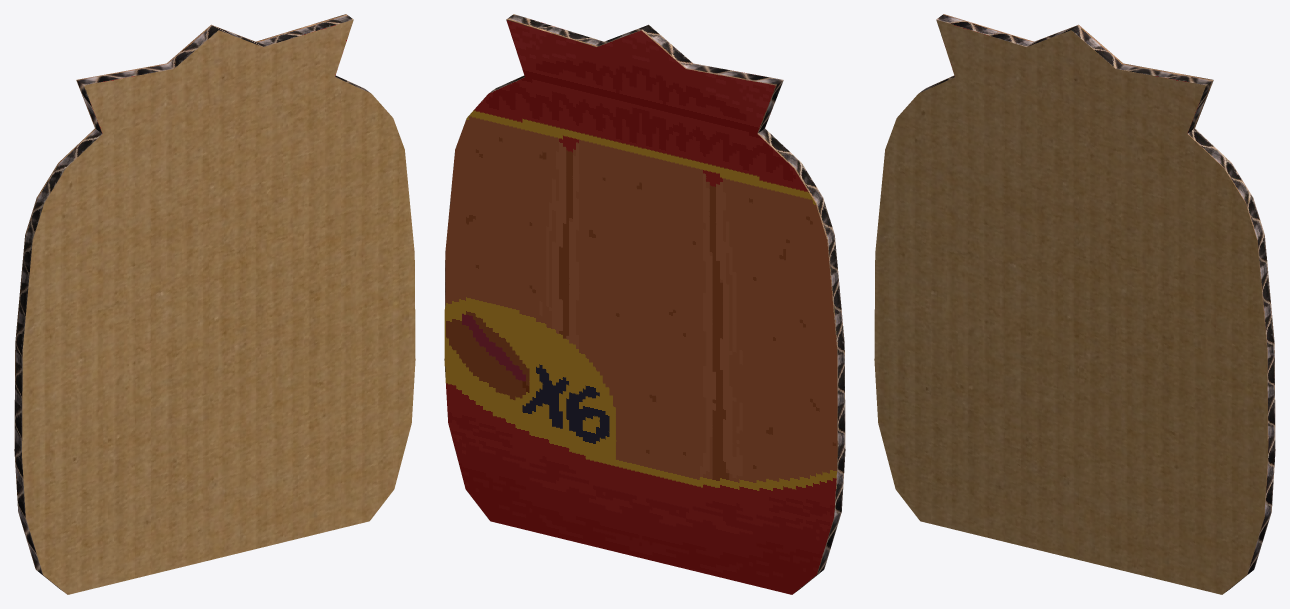
The model's file is PAN DE PANCHO.glb.
3 renders of one model, left to right at view 1: azimuth 30°, elevation 25°; view 2: azimuth 150°, elevation 25°; view 3: azimuth 330°, elevation 25°, orthographic.
Parts seen in each view (by area): view 1: PAN DE PANCHO; view 2: PAN DE PANCHO; view 3: PAN DE PANCHO.
Part boxes in pixels (<box>): PAN DE PANCHO: <box>14,14,415,594</box>; PAN DE PANCHO: <box>444,14,845,594</box>; PAN DE PANCHO: <box>874,14,1275,594</box>.
Bounding box in the file's own units: 2.7 × 3.46 × 0.09.
1 material, 1 textured.
